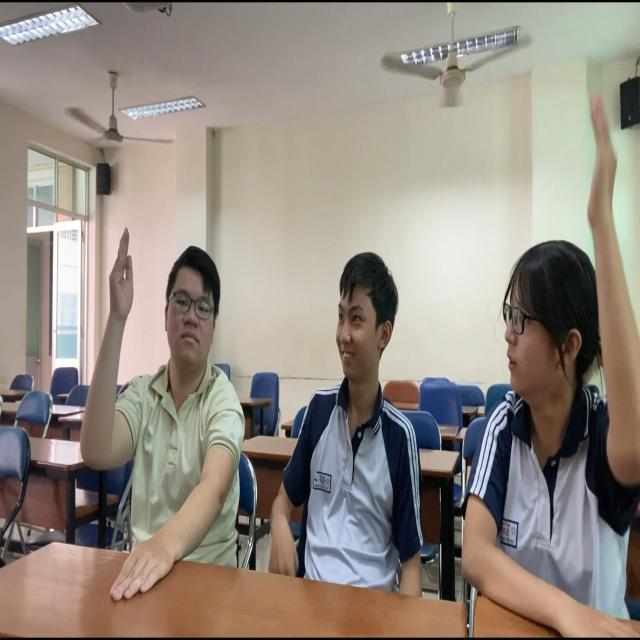raise_hand: (455, 80, 639, 640), (71, 214, 250, 619)
